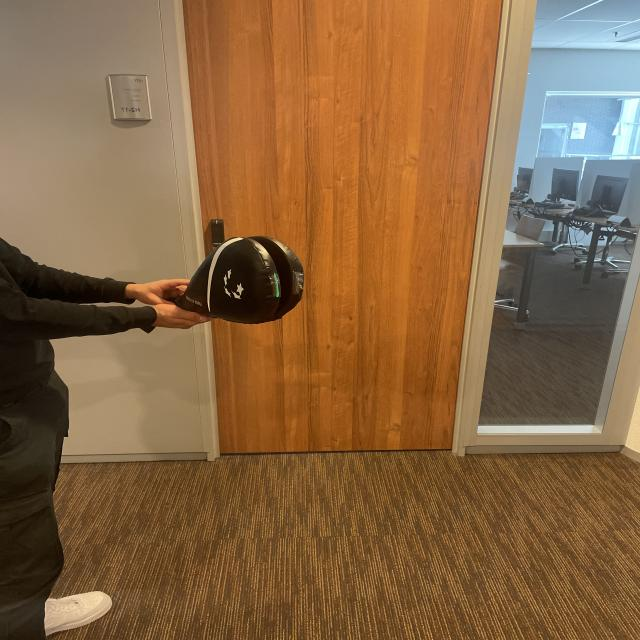paddle: (185, 236, 300, 321)
trigger: (269, 273, 281, 299)
